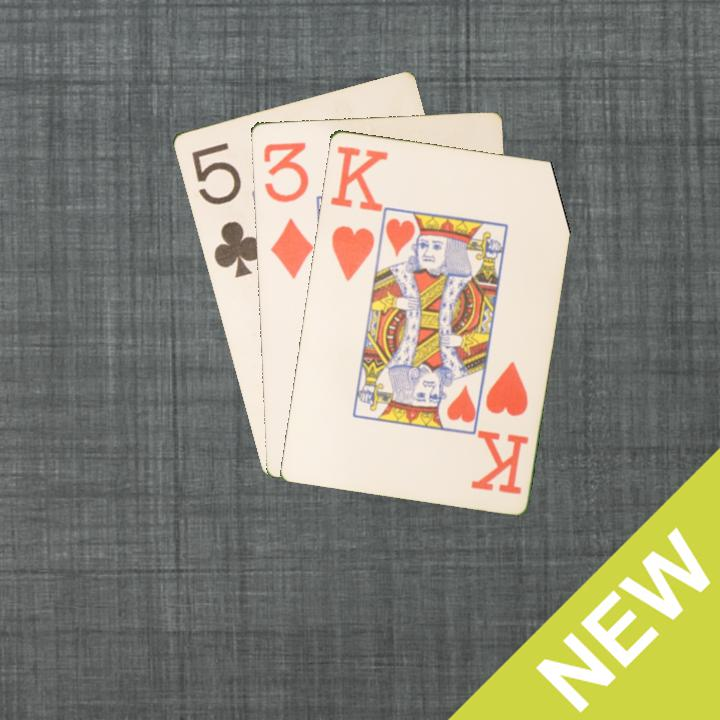3d: (259, 138, 317, 281)
5c: (187, 139, 265, 281)
Kh: (326, 141, 390, 283), (468, 357, 531, 497)
